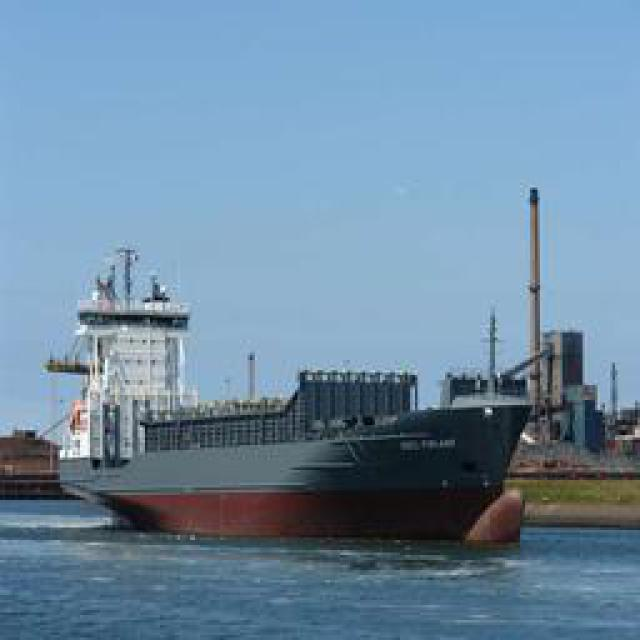Ship: (51, 225, 554, 540)
